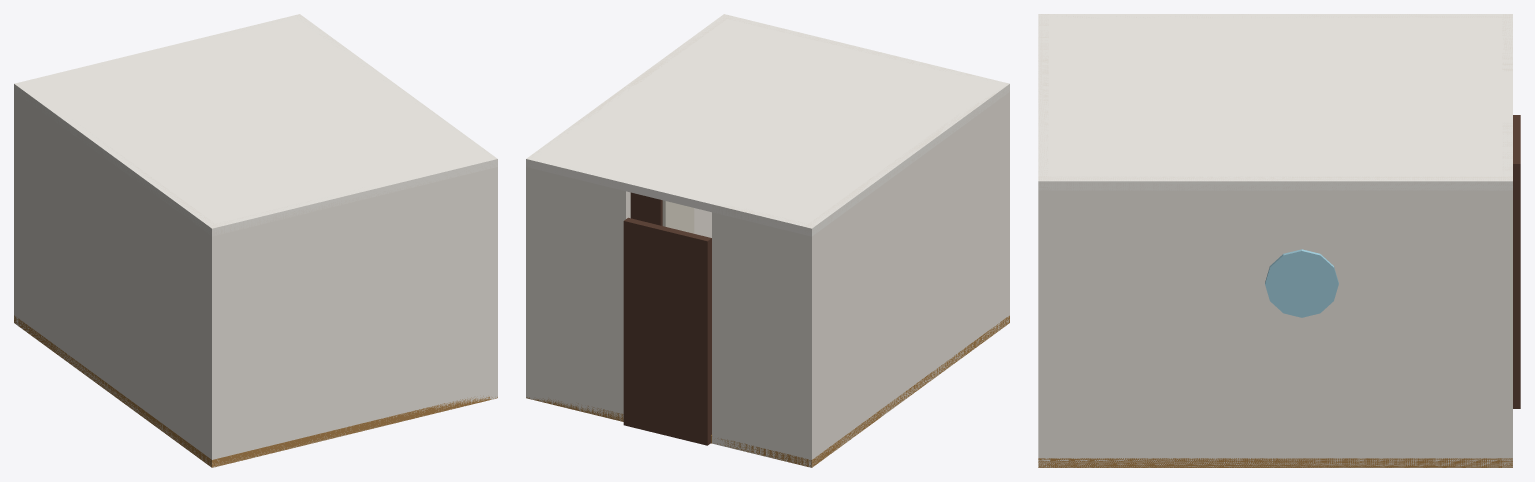
File: 169-Crucero_camarote_balcon.glb
3 views of the same model, side by side, from view 1: azimuth 30°, elevation 25°; view 2: azimuth 150°, elevation 25°; view 3: azimuth 270°, elevation 25° (orthographic). The views are drawn at different scales.
Parts seen in each view (by area): view 1: SM_Cri_Pared_Popa, SM_Cri_Techo, SM_Cri_Pared_Izq, SM_Cri_Piso, SM_Cri_Pared_Der, SM_Cri_Pared_Frente; view 2: SM_Cri_Techo, SM_Cri_Pared_Izq, SM_Cri_Pared_Frente, SM_Cri_Pared_Frente2, SM_Cri_Puerta, SM_Cri_Piso, SM_Cri_Pared_Der, SM_Cri_Armario_Puerta, SM_Cri_Armario, SM_Cri_Pared_Popa; view 3: SM_Cri_Pared_Der, SM_Cri_Techo, SM_Cri_Piso, SM_Cri_Ventana, SM_Cri_Pared_Frente2, SM_Cri_Pared_Popa, SM_Cri_Puerta, SM_Cri_Pared_Izq.
Part boxes in pixels (x1,y1,x2,y2): SM_Cri_Pared_Popa: (208,159,497,466); SM_Cri_Techo: (14,14,497,236); SM_Cri_Pared_Izq: (14,84,219,467); SM_Cri_Piso: (14,315,497,467); SM_Cri_Pared_Der: (294,14,497,399); SM_Cri_Pared_Frente: (14,65,102,325); SM_Cri_Techo: (526,14,1009,236); SM_Cri_Pared_Izq: (804,83,1009,467); SM_Cri_Pared_Frente: (712,202,816,467); SM_Cri_Pared_Frente2: (526,157,630,420); SM_Cri_Puerta: (623,217,711,445); SM_Cri_Piso: (526,315,1009,467); SM_Cri_Pared_Der: (526,14,730,399); SM_Cri_Armario_Puerta: (662,200,694,233); SM_Cri_Armario: (630,192,662,225); SM_Cri_Pared_Popa: (723,14,1009,314); SM_Cri_Pared_Der: (1038,176,1512,467); SM_Cri_Techo: (1038,14,1512,190); SM_Cri_Piso: (1038,458,1512,467); SM_Cri_Ventana: (1265,249,1338,317); SM_Cri_Pared_Frente2: (1502,122,1512,467); SM_Cri_Pared_Popa: (1038,14,1048,467); SM_Cri_Puerta: (1513,115,1520,408); SM_Cri_Pared_Izq: (1039,14,1511,18).
Size of the model in its own units: 3.03 by 2.4 by 3.66.
